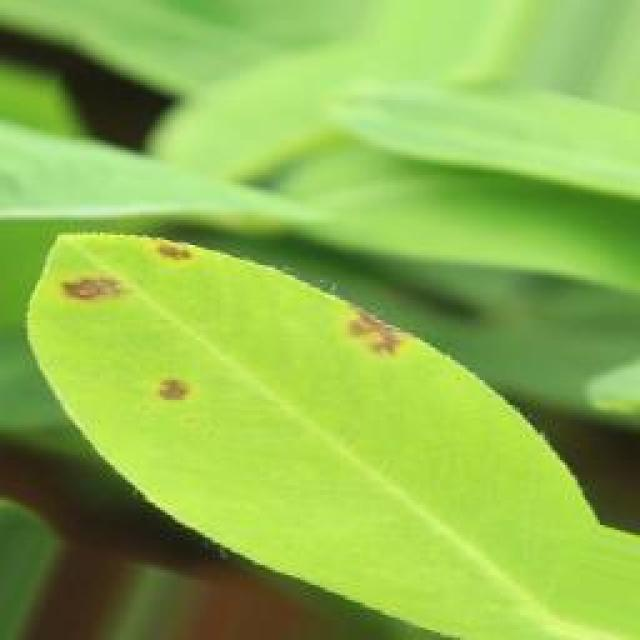Sigatoka: (333, 290, 427, 396), (42, 255, 144, 315), (136, 214, 194, 292), (138, 358, 213, 412)
